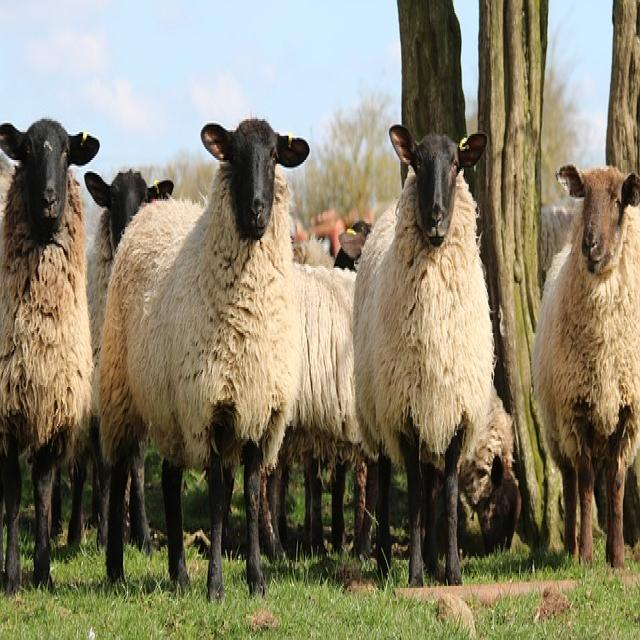goat: (100, 119, 309, 599), (354, 126, 492, 585), (0, 119, 99, 592), (532, 165, 640, 567)
